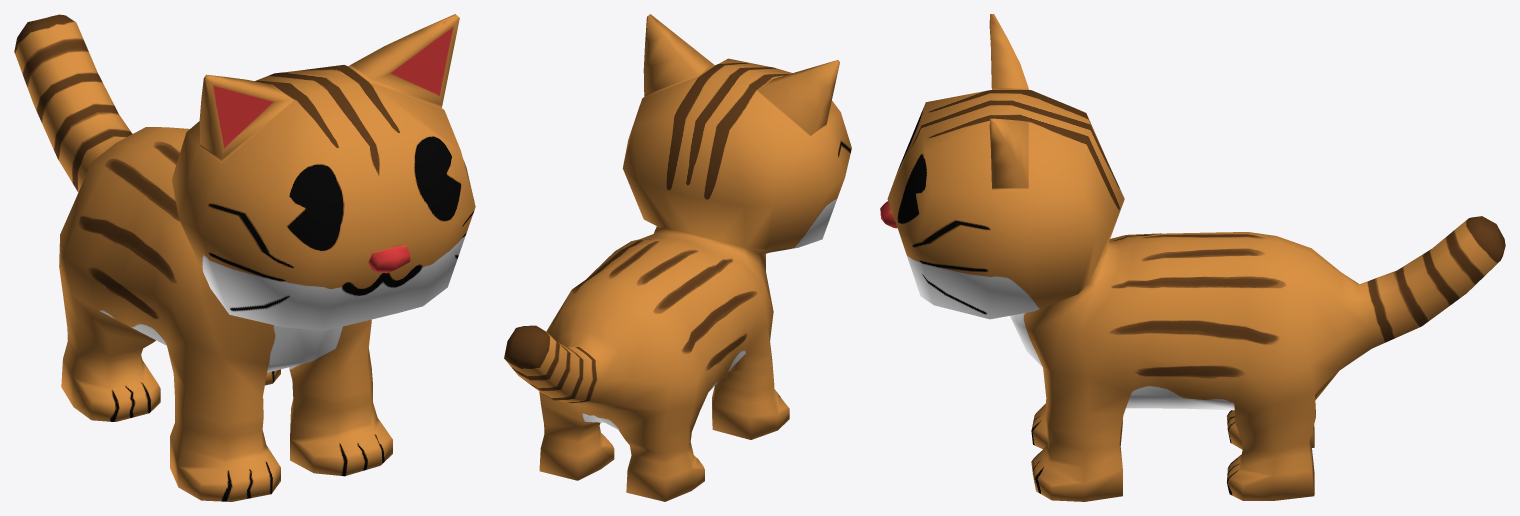
Rendered from Cat.fbx.
3 renders of one model, left to right at view 1: azimuth 30°, elevation 25°; view 2: azimuth 150°, elevation 25°; view 3: azimuth 270°, elevation 25°, orthographic. The views are drawn at different scales.
Parts seen in each view (by area): view 1: cat; view 2: cat; view 3: cat.
Part boxes in pixels (x1,y1,x2,y2): cat: (14, 14, 475, 501); cat: (504, 14, 851, 501); cat: (880, 14, 1505, 501).
Size of the model in its own units: 169 by 275 by 395.
